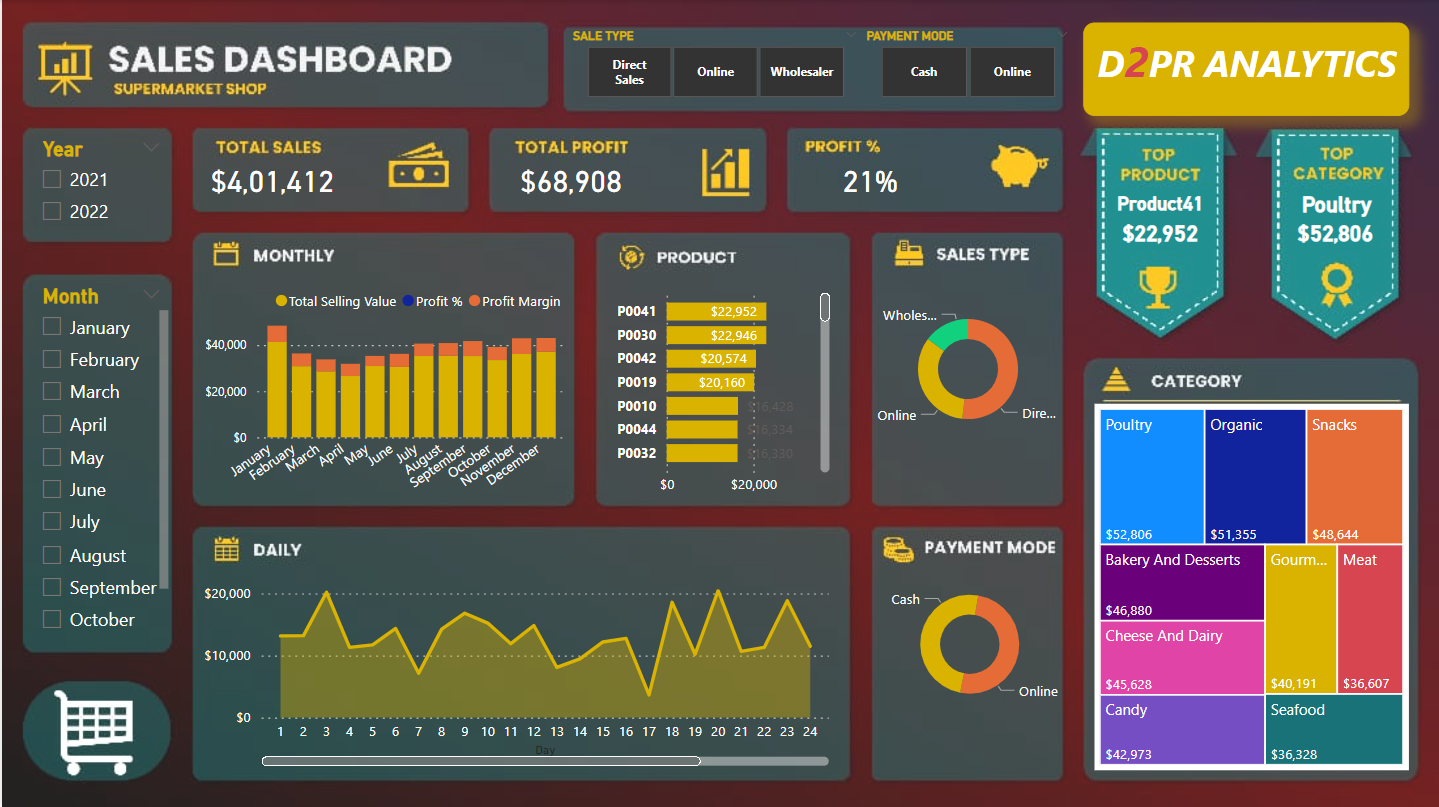

This screenshot's page, from the dashboard's own definition file:
{"tool":"powerbi","page":{"name":"DashBoard","canvas":[1280,720],"ordinal":0},"visuals":[{"type":"card","fields":{"Values":["All_measures.Total Selling Value"]},"box":[175.7,132.9,130,55.7],"z":1000},{"type":"card","fields":{"Values":["All_measures.Profit %"]},"box":[701.4,132.9,144.3,55.7],"z":2000},{"type":"card","fields":{"Values":["All_measures.Profit Margin"]},"box":[444.3,132.9,125.7,55.7],"z":3000},{"type":"slicer","fields":{"Values":["SALES_DATA.DATE.Variation.Date Hierarchy.Year"]},"box":[22.9,117.1,130,91.4],"z":4000},{"type":"slicer","fields":{"Values":["SALES_DATA.DATE.Variation.Date Hierarchy.Month"]},"box":[22.9,248.6,130,327.1],"z":5000},{"type":"columnChart","fields":{"Category":["SALES_DATA.DATE.Variation.Date Hierarchy.Month"],"Y":["All_measures.Total Selling Value","All_measures.Profit %","All_measures.Profit Margin"]},"box":[175.7,248.6,331.4,201.4],"z":6000},{"type":"donutChart","fields":{"Category":["SALES_DATA.SALE TYPE"],"Y":["All_measures.Total Selling Value"]},"box":[774.3,208.6,171.4,241.4],"z":7000},{"type":"barChart","fields":{"Category":["SALES_DATA.PRODUCT ID"],"Y":["All_measures.Total Selling Value"]},"box":[541.7,248.3,200,201.7],"z":8000},{"type":"areaChart","fields":{"Category":["SALES_DATA.DATE.Variation.Date Hierarchy.Day"],"Y":["All_measures.Total Selling Value"]},"box":[175,511.7,566.7,175],"z":9000},{"type":"slicer","fields":{"Values":["SALES_DATA.SALE TYPE"]},"box":[495,20,278.3,73.3],"z":10000},{"type":"slicer","fields":{"Values":["SALES_DATA.PAYMENT MODE"]},"box":[756.7,20,205,73.3],"z":11000},{"type":"donutChart","fields":{"Y":["All_measures.Total Selling Value"],"Category":["SALES_DATA.PAYMENT MODE"]},"box":[776.7,453.3,170,241.7],"z":12000},{"type":"treemap","fields":{"Group":["PRODUCT_MASTER.CATEGORY"],"Values":["All_measures.Total Selling Value"]},"box":[973.3,360,280,326.7],"z":13000},{"type":"textbox","box":[962.9,20,290,82.9],"z":14000},{"type":"card","fields":{"Values":["Min(PRODUCT_MASTER.PRODUCT)"]},"box":[982.5,163.3,97.4,35.7],"z":16000},{"type":"card","fields":{"Values":["Min(PRODUCT_MASTER.CATEGORY)"]},"box":[1138.9,164.7,100.2,34.3],"z":17000},{"type":"card","fields":{"Values":["All_measures.Total Selling Value"]},"box":[982.5,190.7,97.4,35.7],"z":18000},{"type":"card","fields":{"Values":["All_measures.Total Selling Value"]},"box":[1138.9,190.7,97.4,35.7],"z":19000}]}

Visuals, with their boxes in screenshot pixels (x1, y1, x2, y2), scaled from the page's 1280x720 canvas onto the 1439x807 screenshot:
card - All_measures.Total Selling Value: rect(198, 149, 344, 211)
card - All_measures.Profit %: rect(789, 149, 951, 211)
card - All_measures.Profit Margin: rect(499, 149, 641, 211)
slicer - SALES_DATA.DATE.Variation.Date Hierarchy.Year: rect(26, 131, 172, 234)
slicer - SALES_DATA.DATE.Variation.Date Hierarchy.Month: rect(26, 279, 172, 645)
columnChart - SALES_DATA.DATE.Variation.Date Hierarchy.Month x All_measures.Total Selling Value: rect(198, 279, 570, 504)
donutChart - SALES_DATA.SALE TYPE x All_measures.Total Selling Value: rect(870, 234, 1063, 504)
barChart - SALES_DATA.PRODUCT ID x All_measures.Total Selling Value: rect(609, 278, 834, 504)
areaChart - SALES_DATA.DATE.Variation.Date Hierarchy.Day x All_measures.Total Selling Value: rect(197, 574, 834, 770)
slicer - SALES_DATA.SALE TYPE: rect(556, 22, 869, 105)
slicer - SALES_DATA.PAYMENT MODE: rect(851, 22, 1081, 105)
donutChart - All_measures.Total Selling Value x SALES_DATA.PAYMENT MODE: rect(873, 508, 1064, 779)
treemap - PRODUCT_MASTER.CATEGORY x All_measures.Total Selling Value: rect(1094, 404, 1409, 770)
textbox: rect(1083, 22, 1409, 115)
card - Min(PRODUCT_MASTER.PRODUCT): rect(1105, 183, 1214, 223)
card - Min(PRODUCT_MASTER.CATEGORY): rect(1280, 185, 1393, 223)
card - All_measures.Total Selling Value: rect(1105, 214, 1214, 254)
card - All_measures.Total Selling Value: rect(1280, 214, 1390, 254)
